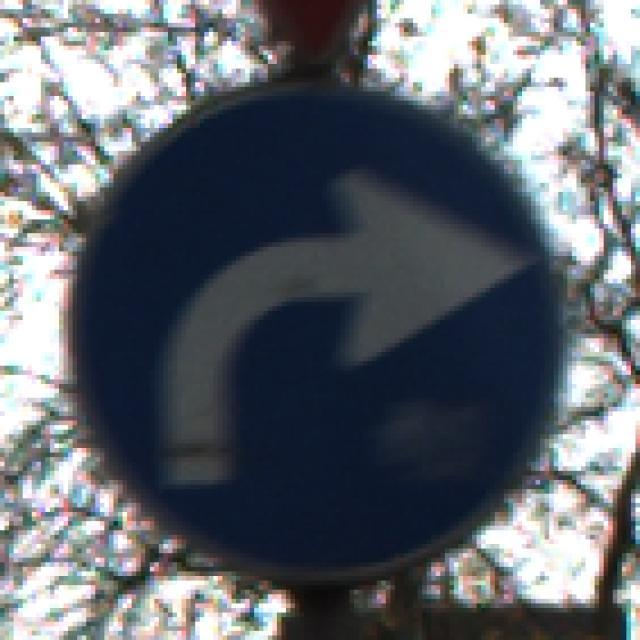compulsary turn right ahead: (60, 75, 572, 584)
